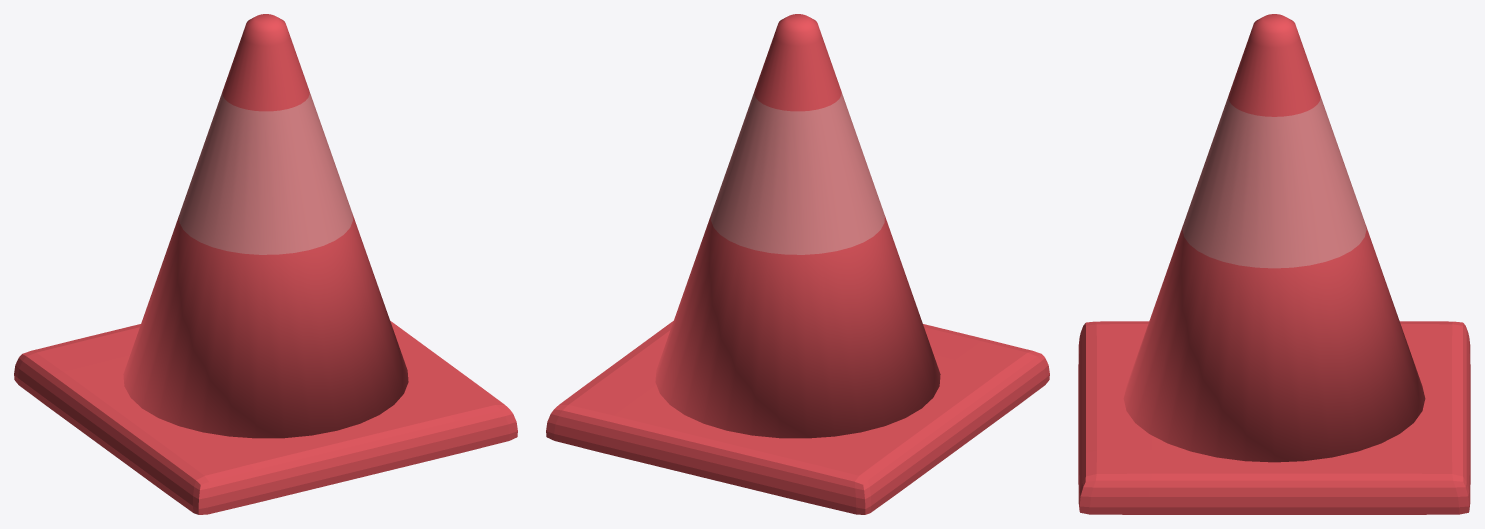
The model's file is plot.glb.
3 views of the same model, side by side, from view 1: azimuth 30°, elevation 25°; view 2: azimuth 150°, elevation 25°; view 3: azimuth 270°, elevation 25° (orthographic). The views are drawn at different scales.
Visible parts, largest first — view 1: Cube.023; view 2: Cube.023; view 3: Cube.023.
Part boxes in pixels (<box>): Cube.023: <box>14,14,517,514</box>; Cube.023: <box>546,14,1049,514</box>; Cube.023: <box>1078,14,1470,514</box>.
Size of the model in its own units: 1.79 by 2.11 by 1.79.
